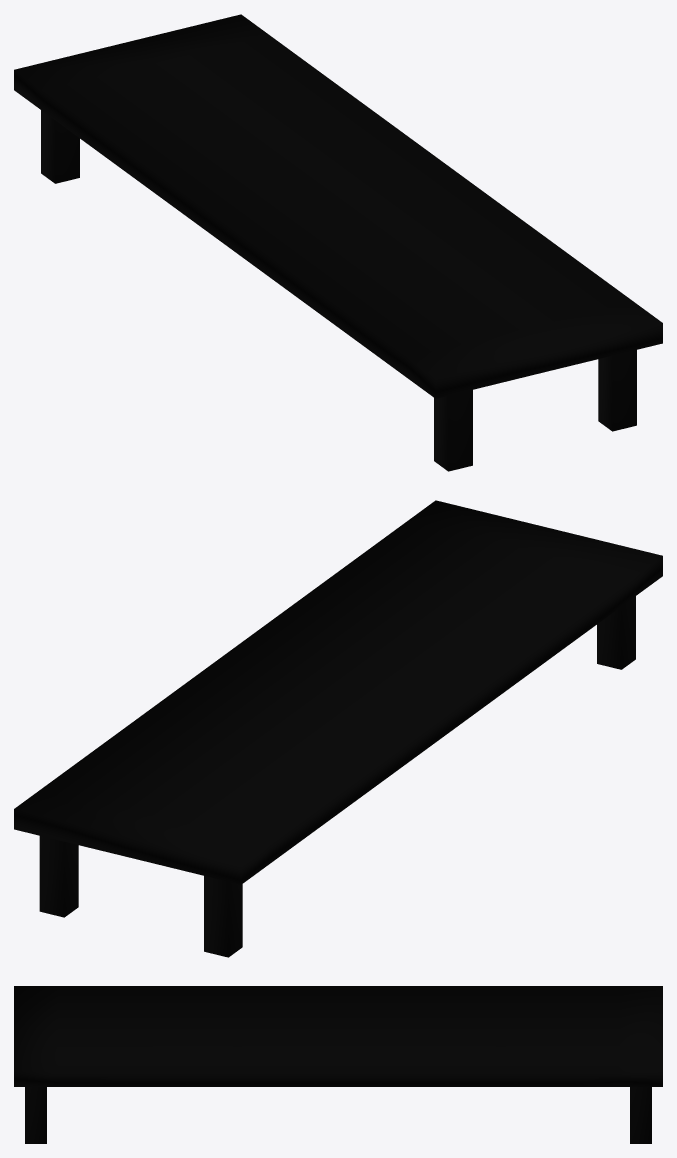
3 views of the same model, one above another, from view 1: azimuth 30°, elevation 25°; view 2: azimuth 150°, elevation 25°; view 3: azimuth 270°, elevation 25° (orthographic). The views are drawn at different scales.
Visible parts, largest first — view 1: T1L3M004_19; view 2: T1L3M004_19; view 3: T1L3M004_19.
Boxes of the visible parts, x1,y1,x2,y2 form: T1L3M004_19: (14,14,662,471); T1L3M004_19: (14,500,662,957); T1L3M004_19: (14,986,662,1143).
Size of the model in its own units: 2.3 by 0.999 by 7.4.
